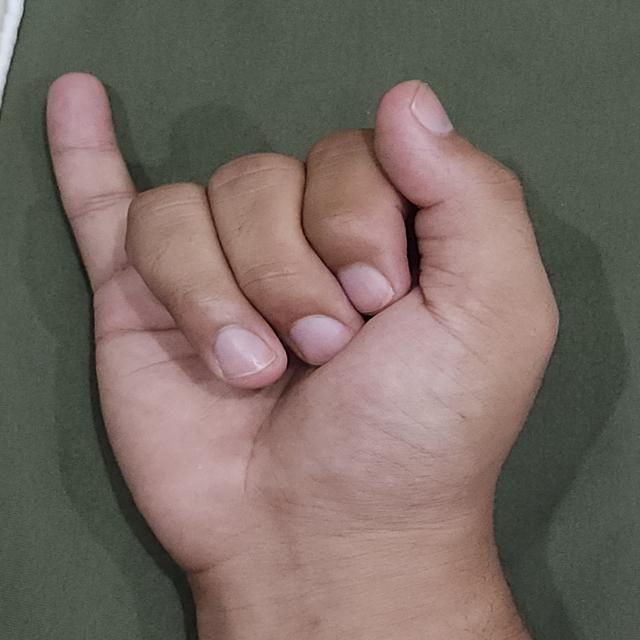ت: (32, 36, 568, 640)
